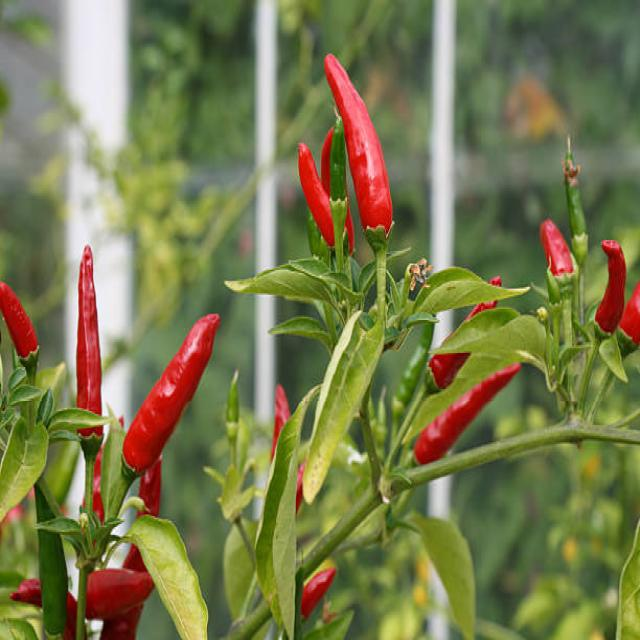Ripe: (122, 314, 221, 472), (324, 55, 394, 243), (413, 362, 521, 466), (74, 246, 101, 416), (299, 144, 334, 246), (87, 568, 154, 620), (595, 238, 627, 336), (0, 282, 38, 358), (538, 216, 577, 279)
Unripe: (35, 493, 66, 634), (563, 138, 586, 264), (330, 105, 345, 199)
